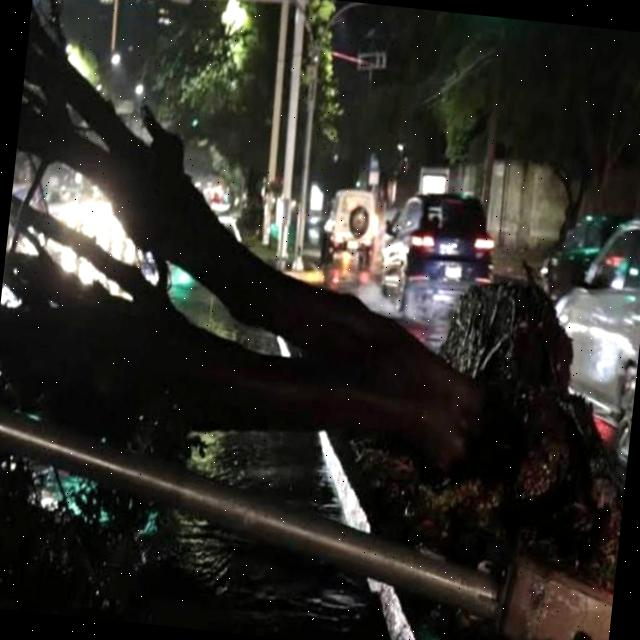Broken Pole: (0, 406, 610, 640)
